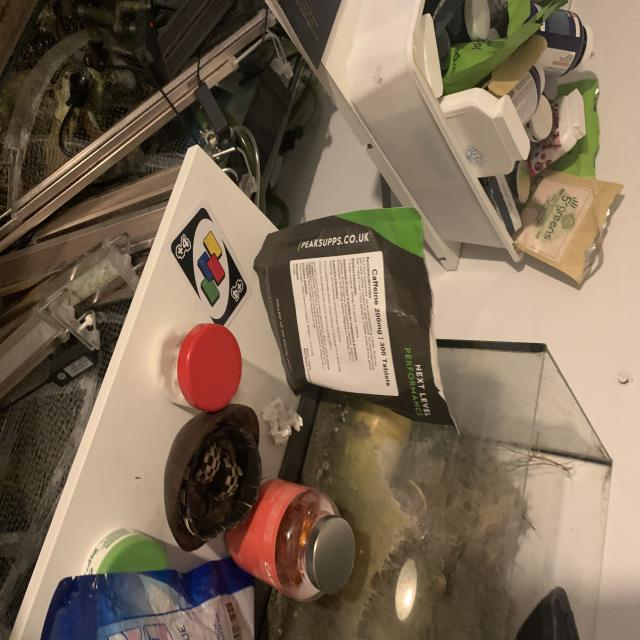lcolor-400: (173, 232, 195, 262)
